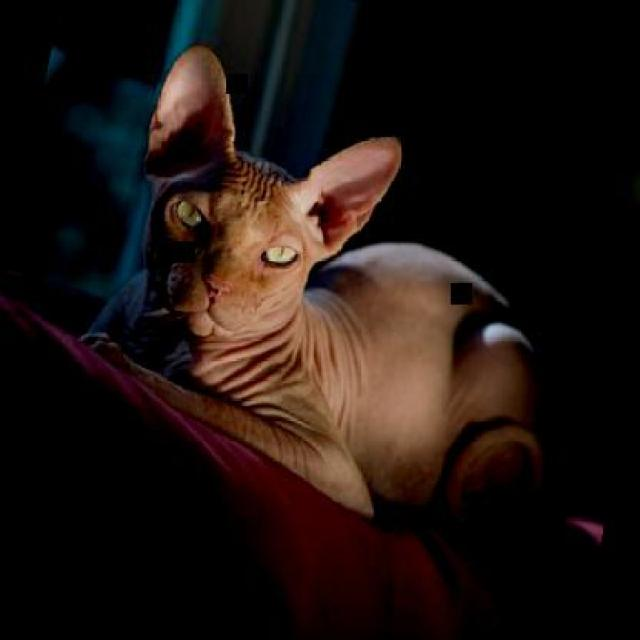cat: (55, 31, 620, 554)
